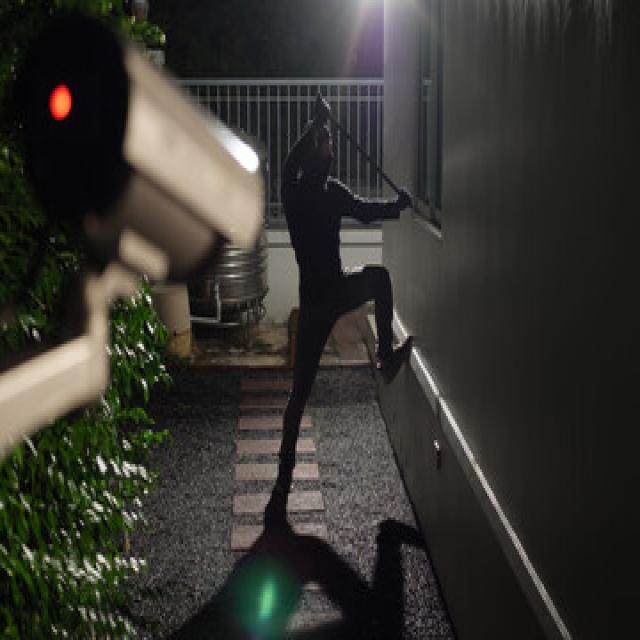person-with-mask: (270, 89, 428, 556)
